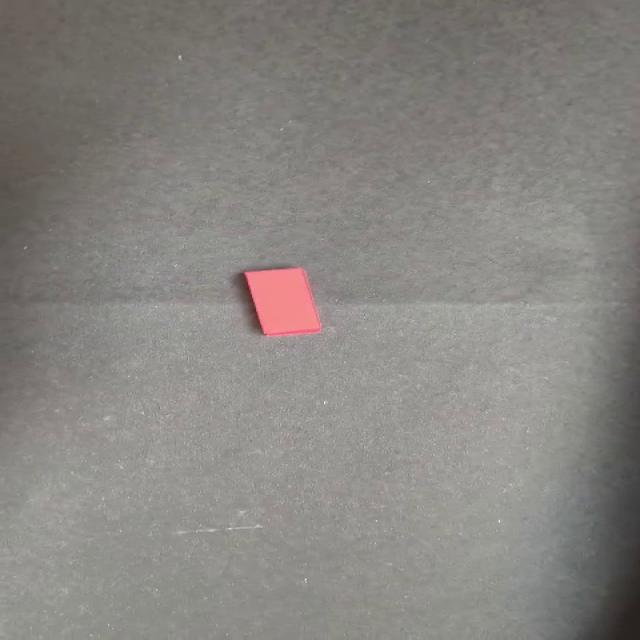red block: (242, 266, 322, 336)
